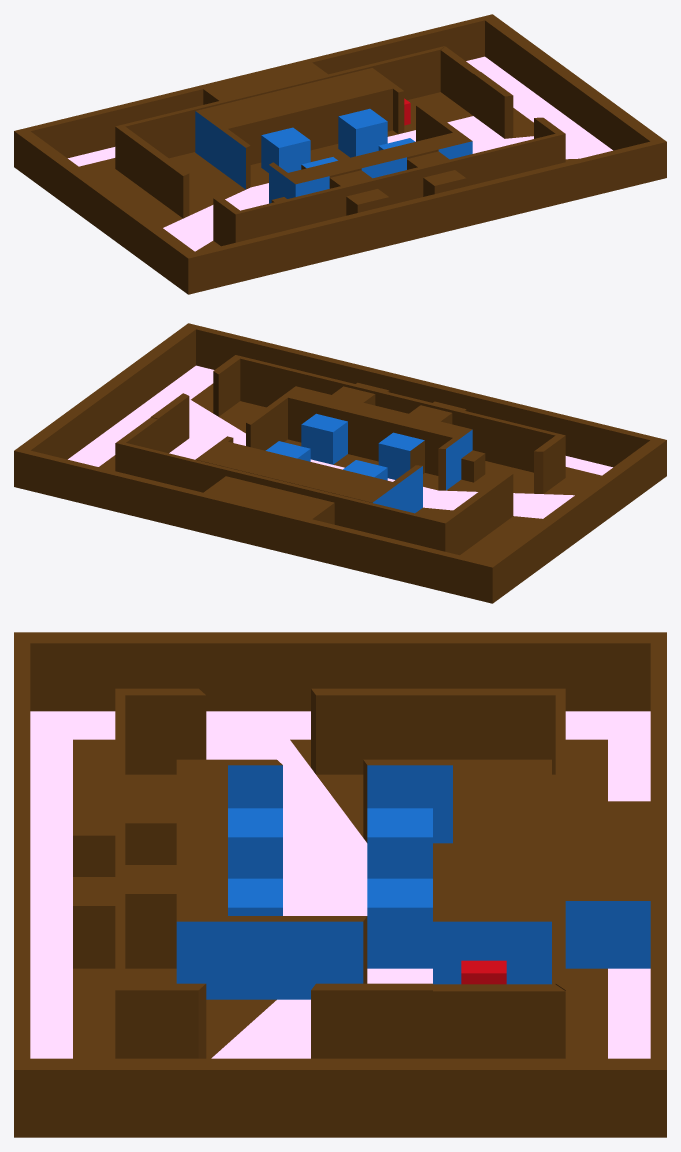
Rendered from fps_map_pvp_shatterline_neon_3x3.glb.
3 views of the same model, one above another, from view 1: azimuth 30°, elevation 25°; view 2: azimuth 150°, elevation 25°; view 3: azimuth 270°, elevation 25° (orthographic). The views are drawn at different scales.
Parts seen in each view (by area): view 1: Plane_0; view 2: Plane_0; view 3: Plane_0.
Part boxes in pixels (x1,y1,x2,y2): Plane_0: (14,14,666,294); Plane_0: (14,323,666,603); Plane_0: (14,632,666,1137).
Size of the model in its own units: 19 by 1.61 by 11.99.
